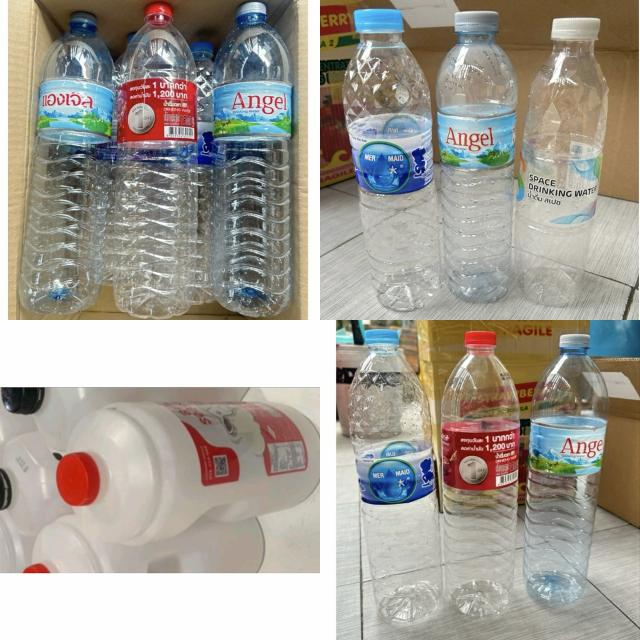plastik: (58, 402, 319, 545), (342, 9, 441, 311), (19, 12, 114, 314), (111, 2, 198, 319), (515, 18, 609, 306), (349, 330, 441, 621), (211, 2, 292, 317), (436, 11, 518, 302), (524, 334, 609, 605), (441, 331, 519, 616), (1, 388, 246, 453), (24, 515, 265, 572)
